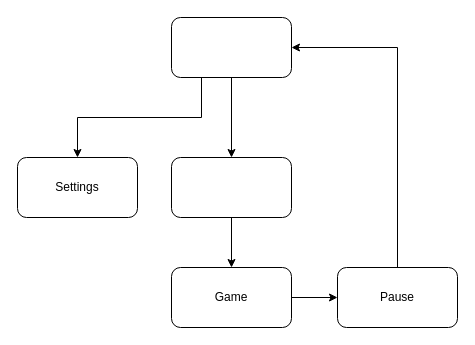
Some shapes in this 475 by 345 pixel diagram are drawn without their labels. Each missing label, with the centre of its shape:
"Menu" belongs at pixel 231 47.
"Save Select" belongs at pixel 231 187.
